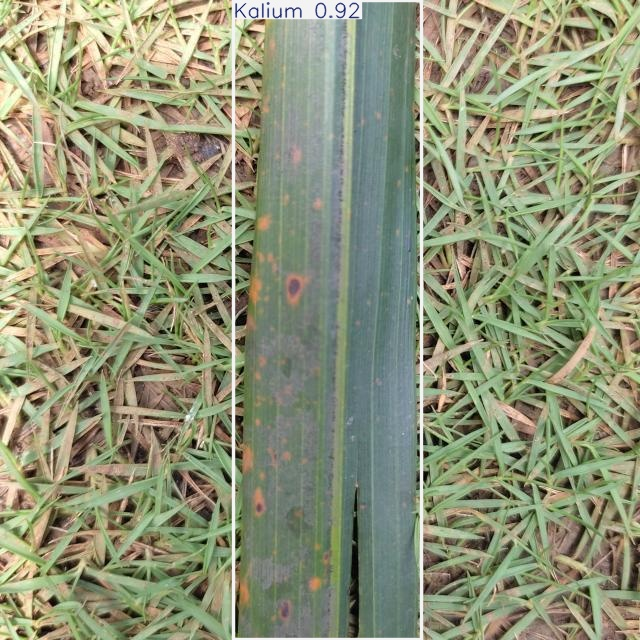Kalium: (234, 0, 421, 640)
